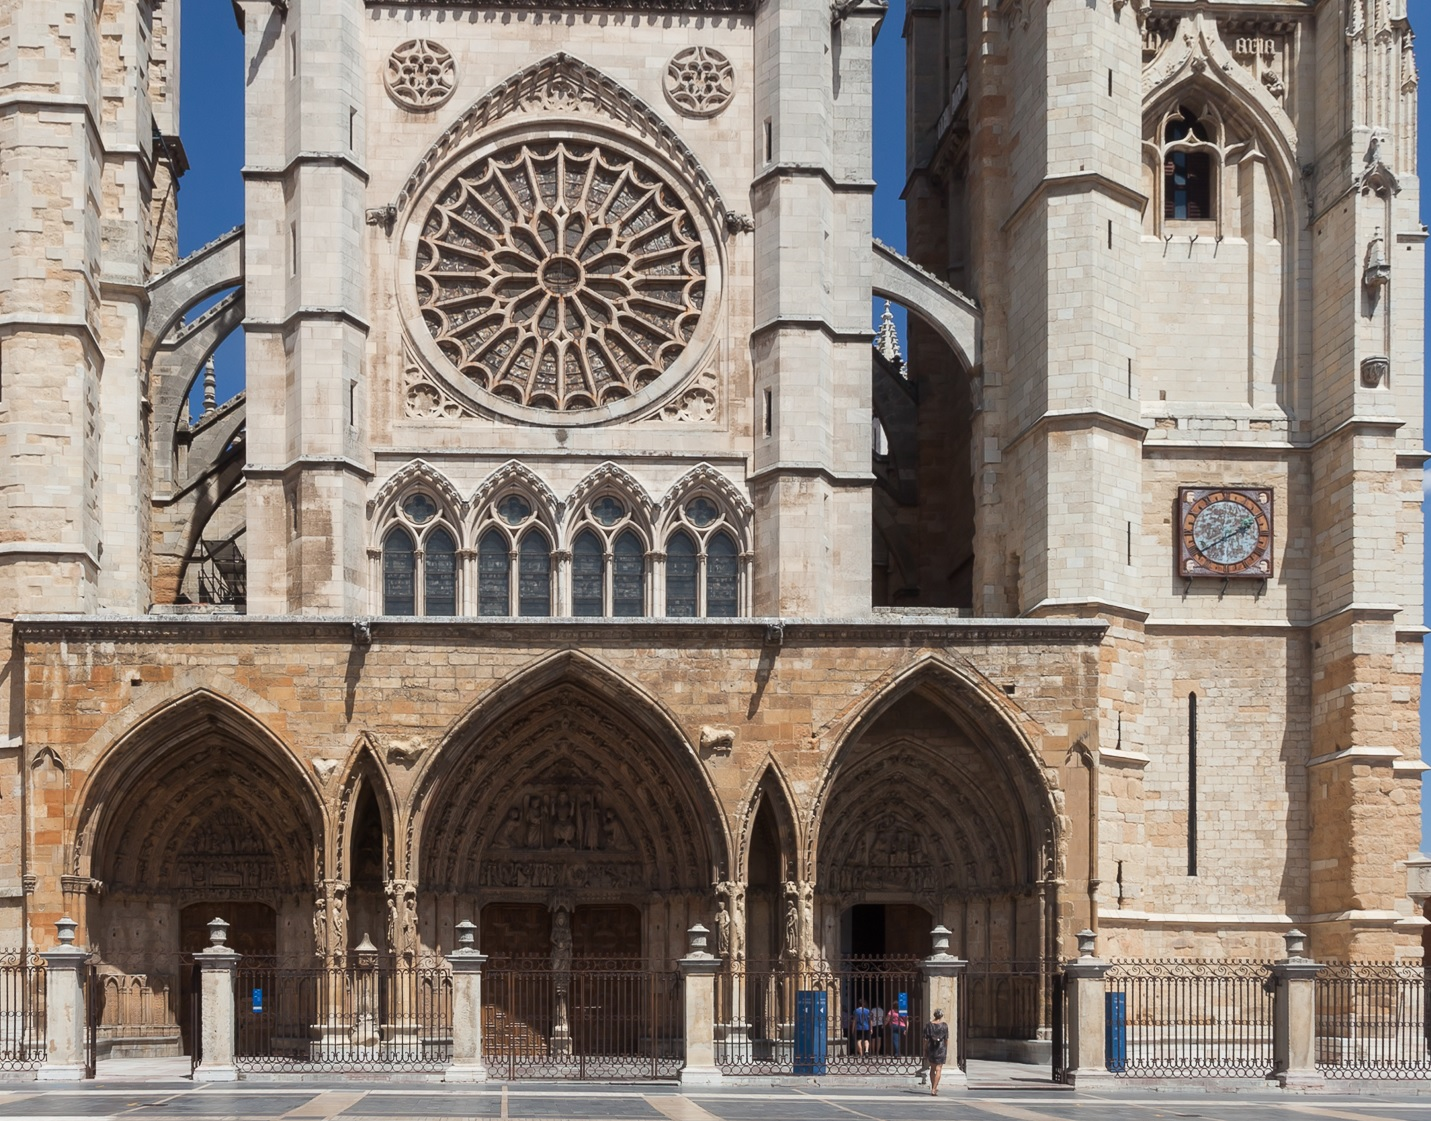arco-apuntado: (400, 645, 734, 883), (803, 654, 1066, 881), (69, 683, 332, 881), (1141, 69, 1290, 171), (330, 727, 400, 881), (655, 458, 752, 554), (369, 455, 465, 552), (561, 457, 656, 552), (466, 457, 561, 551), (734, 750, 803, 881)
